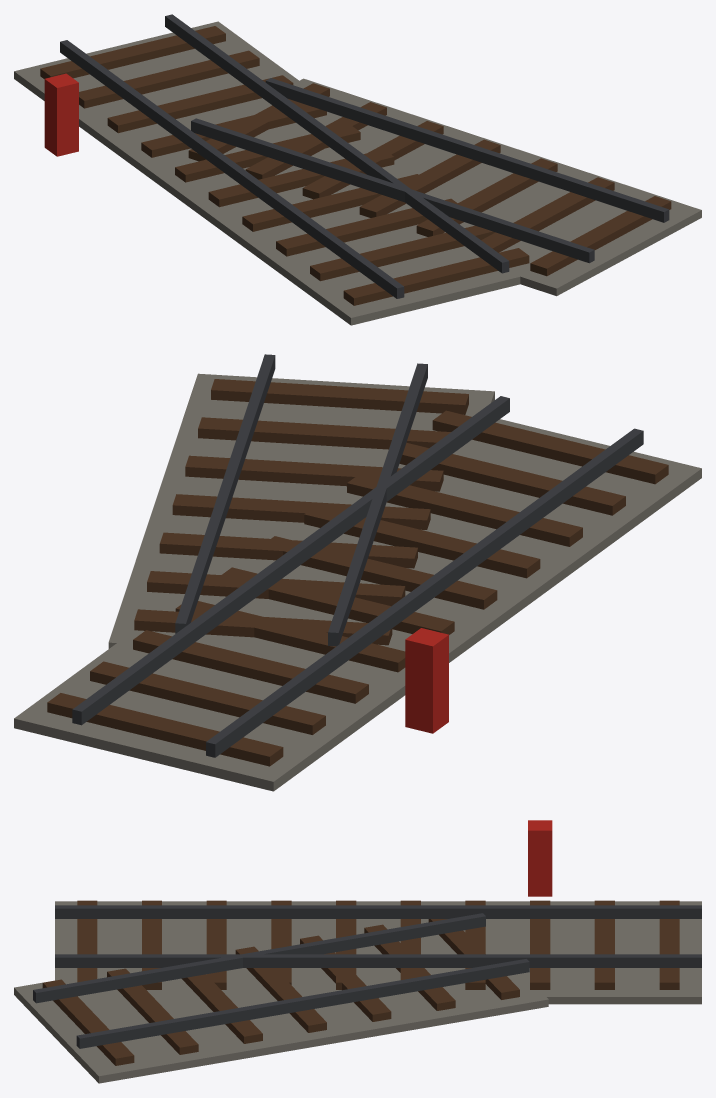
File: road_rail_v_switch_lod1.glb
3 views of the same model, one above another, from view 1: azimuth 30°, elevation 25°; view 2: azimuth 150°, elevation 25°; view 3: azimuth 270°, elevation 25° (orthographic). The views are drawn at different scales.
Visible parts, largest first — view 1: body, lever; view 2: body, lever; view 3: body, lever.
Part boxes in pixels (<box>): body: <box>14,14,701,325</box>; lever: <box>44,73,78,156</box>; body: <box>14,354,701,791</box>; lever: <box>405,628,448,733</box>; body: <box>14,900,701,1083</box>; lever: <box>528,820,552,896</box>.
Bounding box in the file's own units: 5.77 × 0.9 × 8.51.
